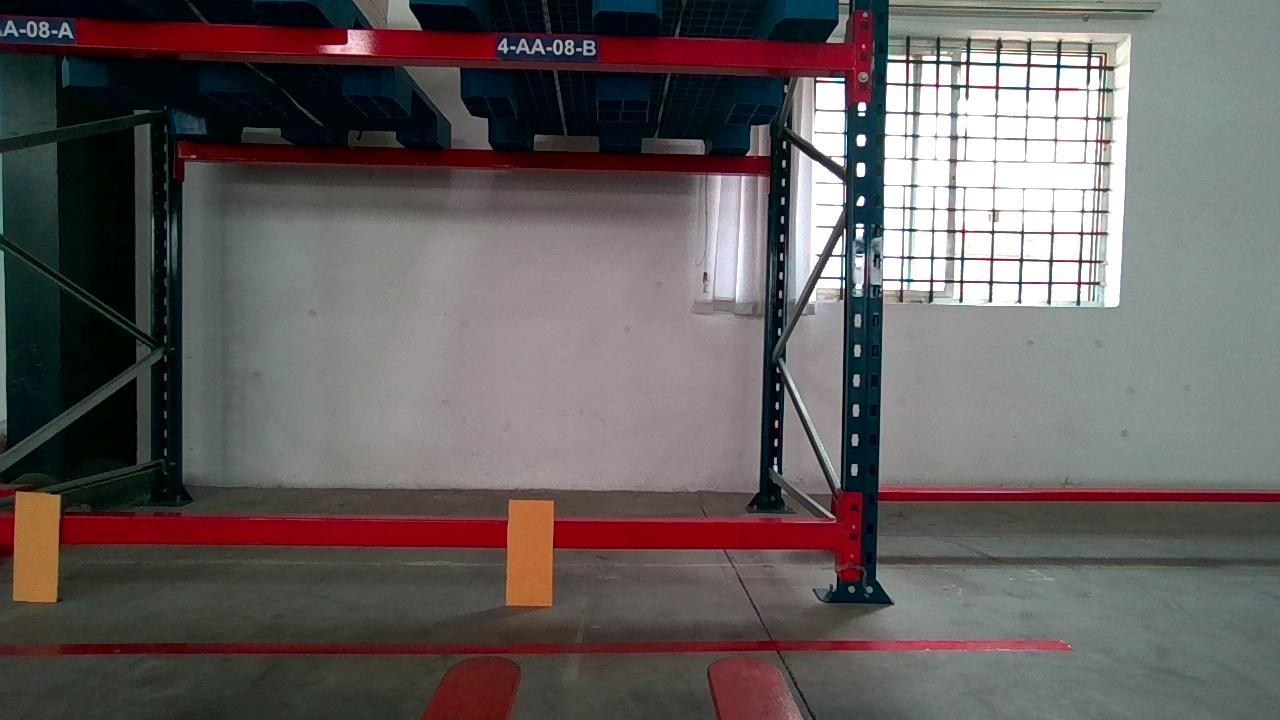h_rack: (5, 12, 852, 76), (67, 515, 842, 550)
orange_strip: (499, 496, 556, 606), (13, 491, 64, 609)
red_line: (2, 639, 1072, 656)
